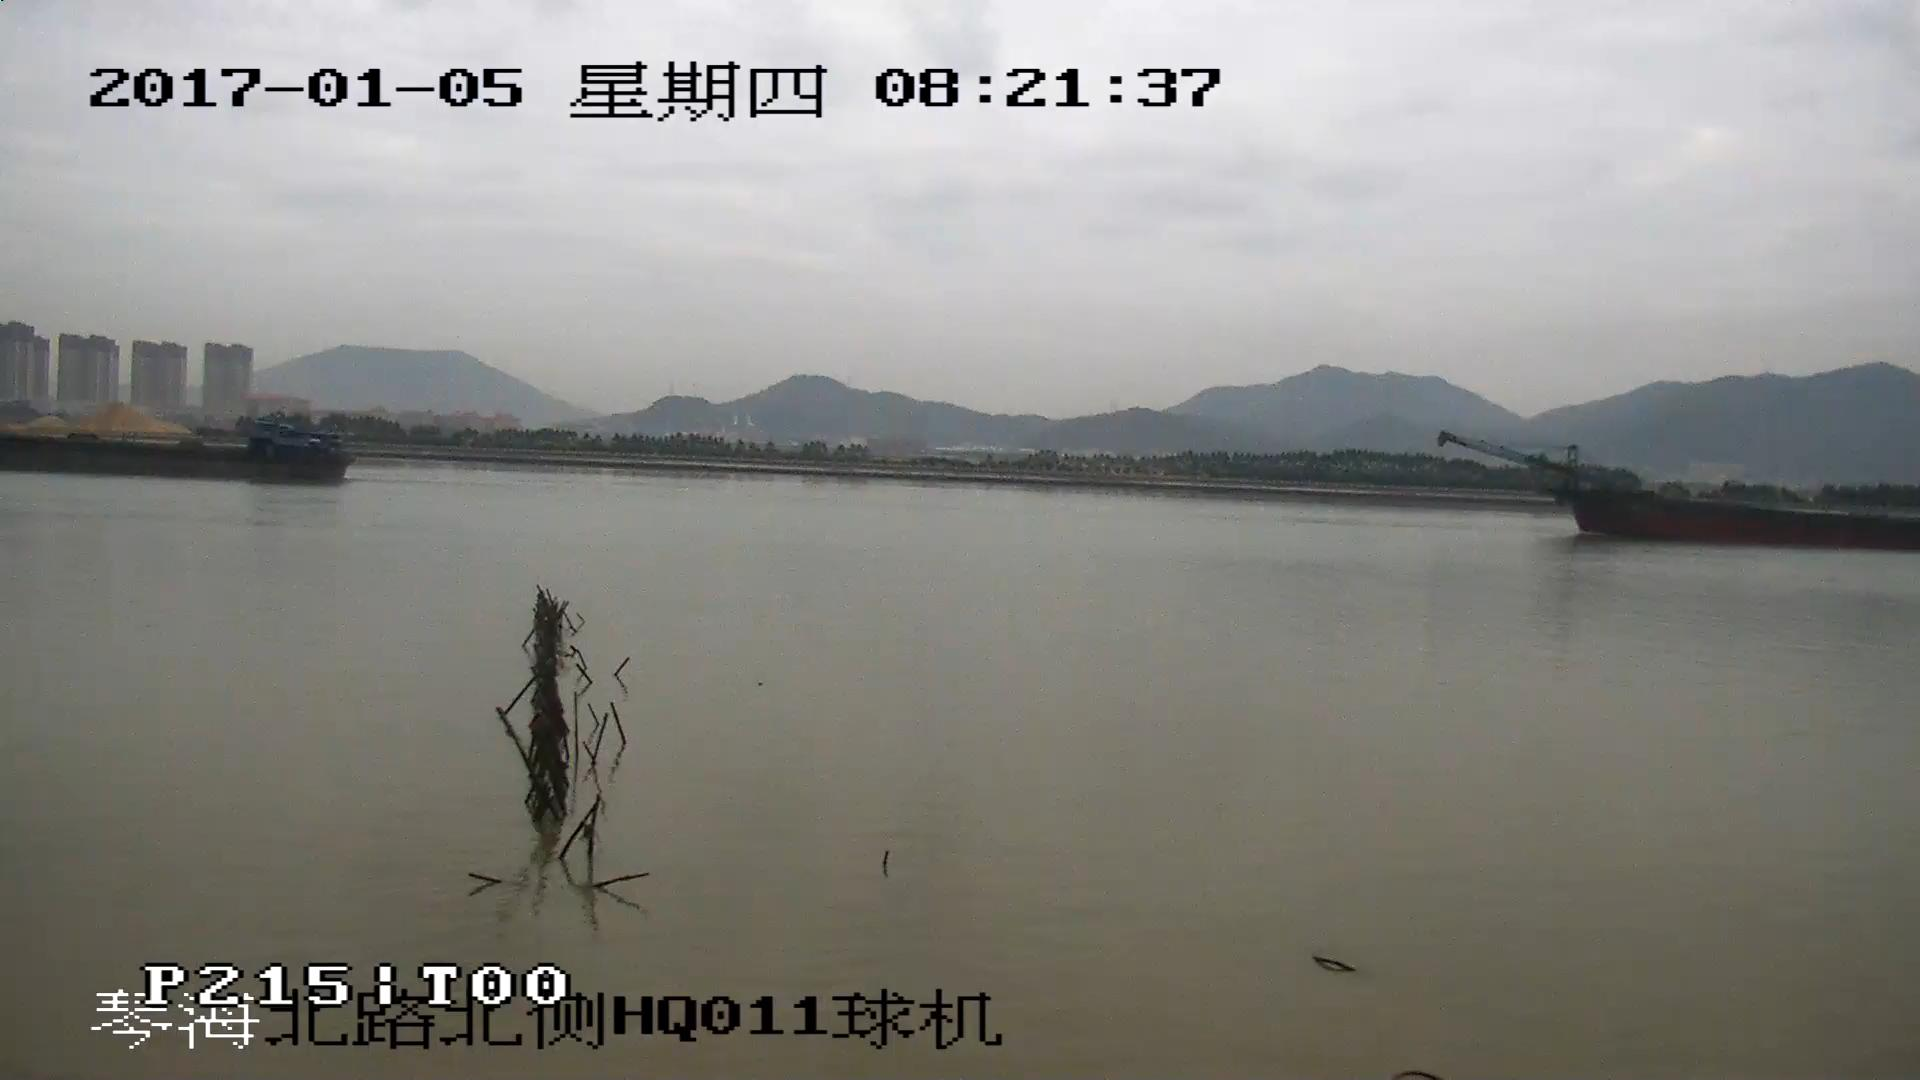bulk cargo carrier: (1444, 435, 1920, 554), (1, 424, 356, 482)
